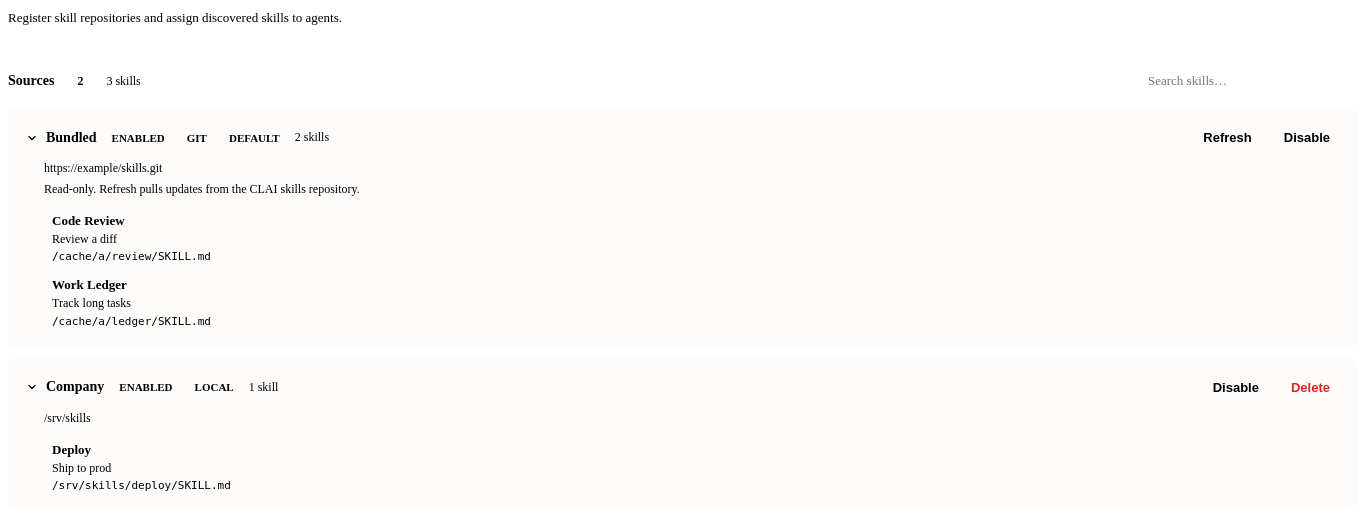
Scenario: SkillsSettings › searches across every source
Check: the text "Bundled" is shown, box left=46, top=130, right=97, bottom=146
In the search field labelled "Search skills": (1248, 81) left=1138, top=66, right=1358, bottom=96, type "ship"
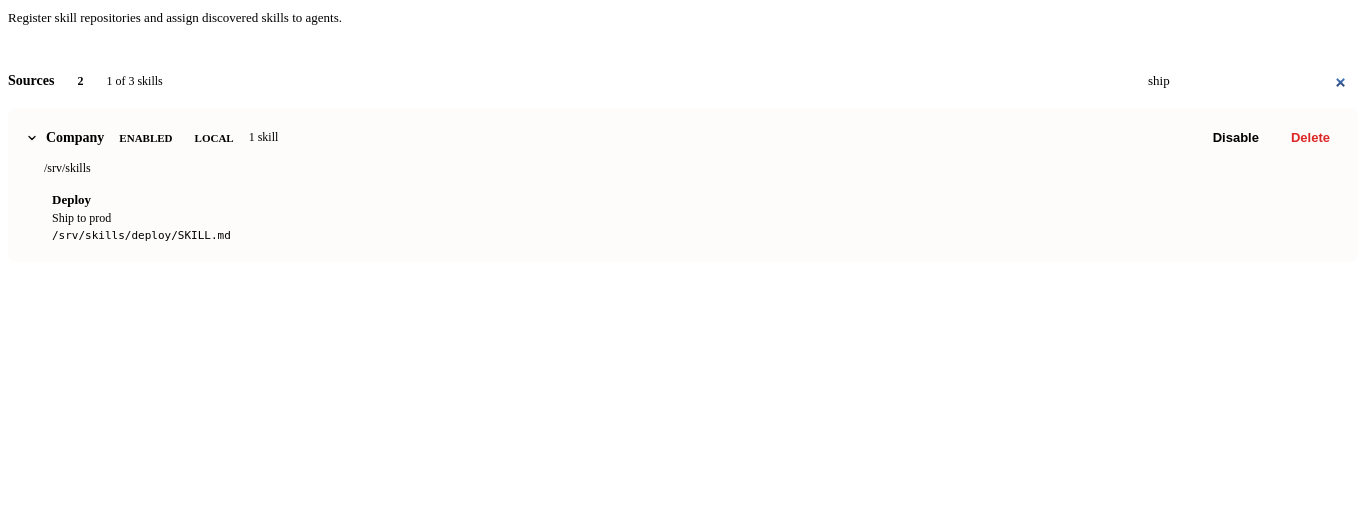
Check: the text "Deploy" is shown, box left=52, top=192, right=91, bottom=207
Check: the text "Code Review" is gone
Check: the button "Bundled" is gone
